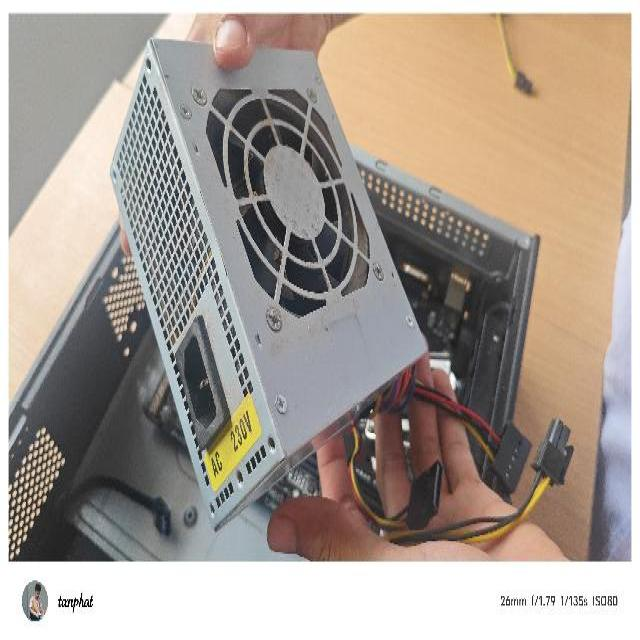PSU: (102, 33, 431, 536)
